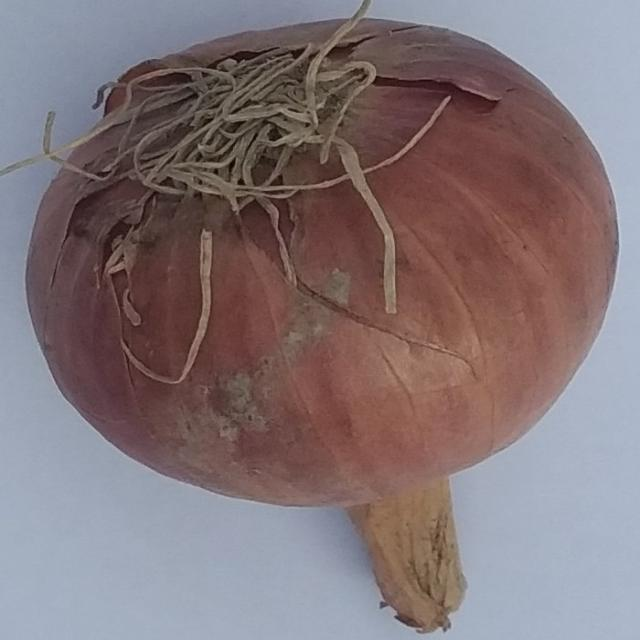onion: (8, 2, 624, 634)
